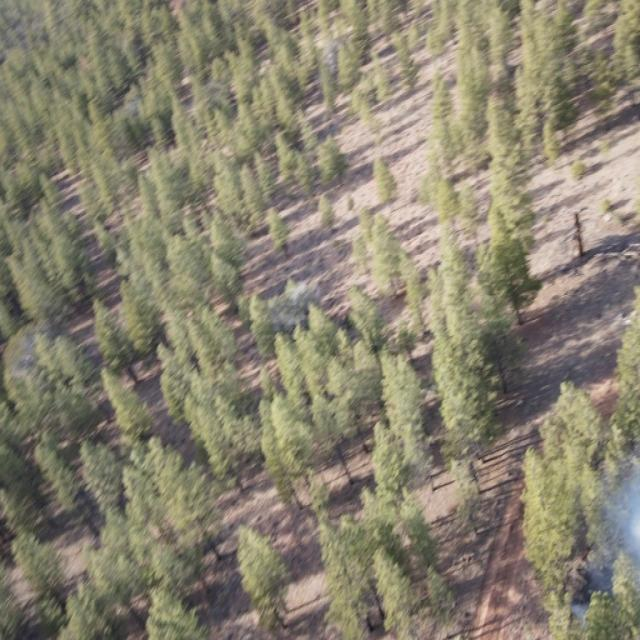smoke: (563, 429, 640, 640), (263, 282, 332, 328), (0, 0, 49, 56), (11, 326, 58, 382), (316, 42, 344, 78), (123, 94, 152, 124)
